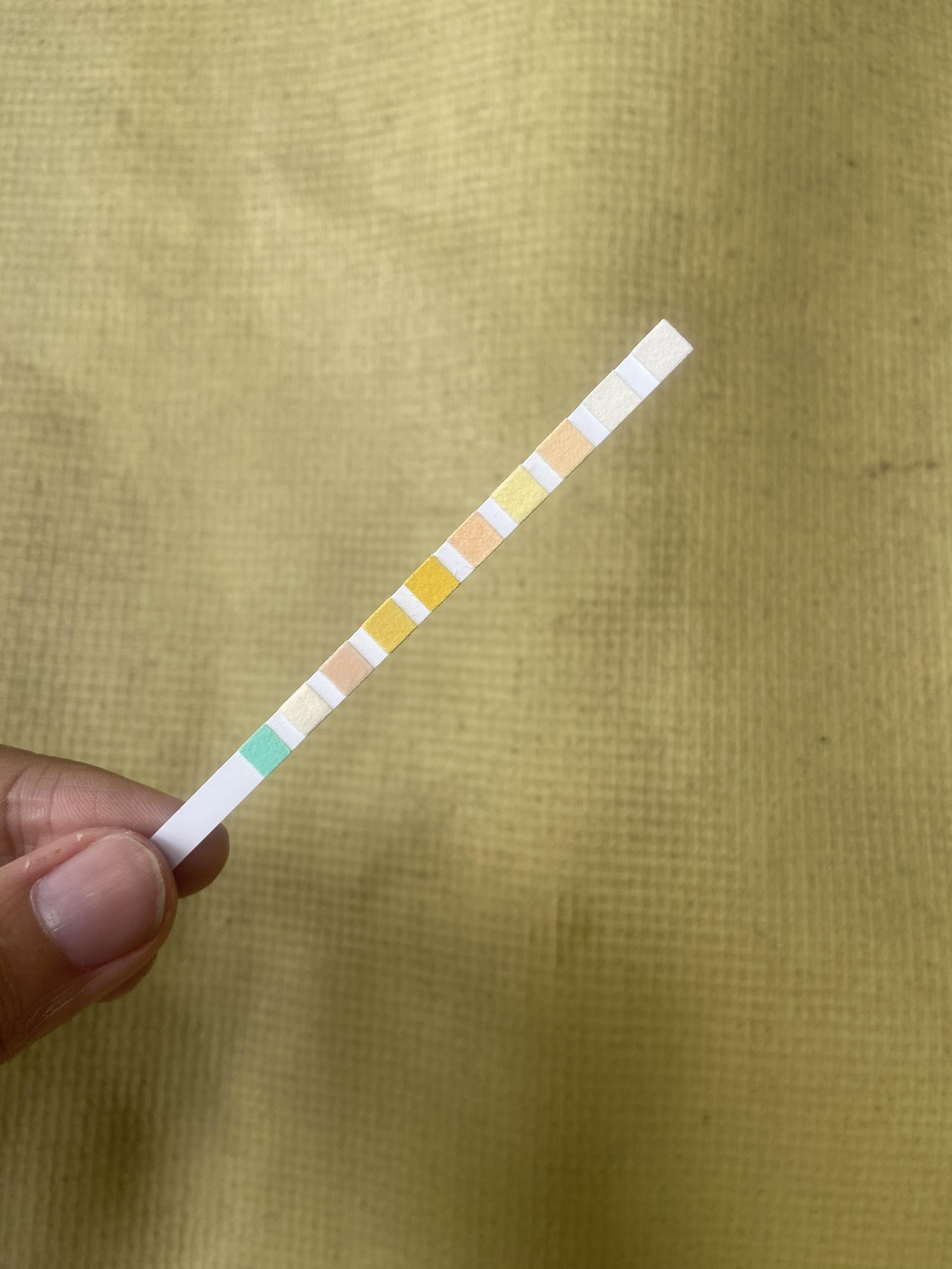Bilirubin: (290, 696, 318, 723)
Blood: (417, 569, 445, 598)
Glucose: (252, 735, 277, 765)
Ketone: (334, 654, 360, 684)
Leukocytes: (647, 335, 679, 367)
Nitrite: (597, 387, 626, 417)
Protein: (505, 481, 534, 510)
SpGravity: (375, 613, 403, 640)
Urobilinogen: (551, 435, 581, 464)
pH: (460, 526, 489, 554)
strip: (156, 318, 695, 860)
